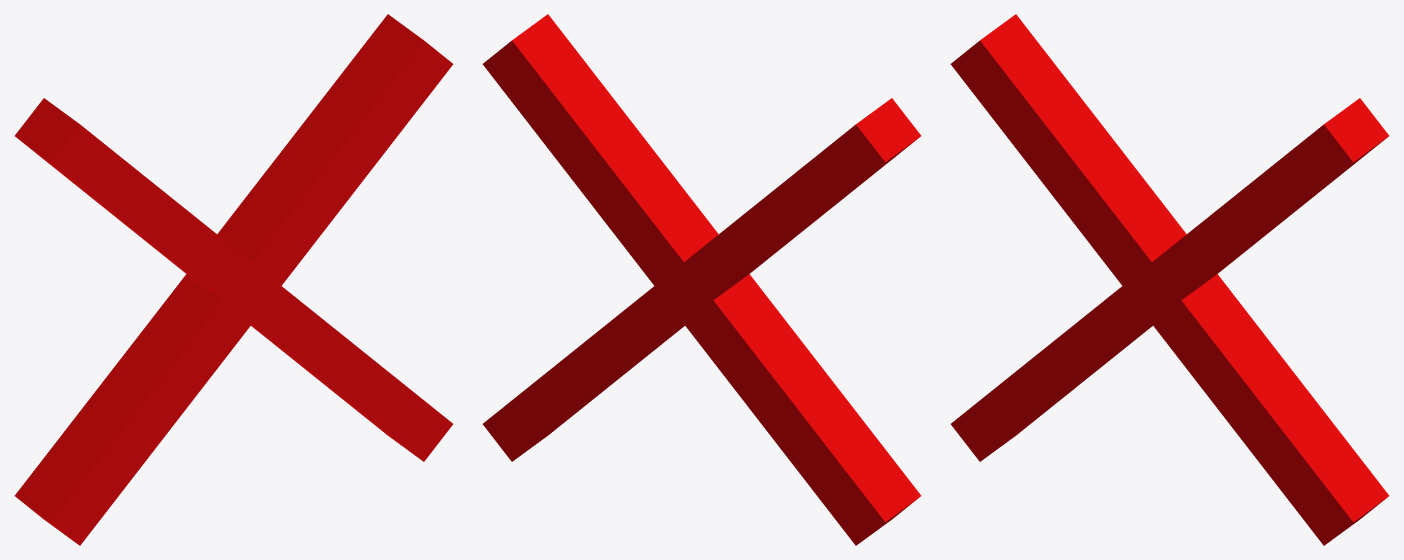
Rendered from xmark.glb.
3 views of the same model, side by side, from view 1: azimuth 30°, elevation 25°; view 2: azimuth 150°, elevation 25°; view 3: azimuth 330°, elevation 25° (orthographic).
Visible parts, largest first — view 1: Cube.001, Cube; view 2: Cube.001, Cube; view 3: Cube, Cube.001.
Part boxes in pixels (x1,y1,x2,y2): Cube.001: (14,14,453,545); Cube: (15,98,452,461); Cube.001: (482,14,921,545); Cube: (483,98,920,461); Cube: (950,14,1389,545); Cube.001: (951,98,1388,461).
Bounding box in the file's own units: 1.2 × 1.2 × 0.186.
